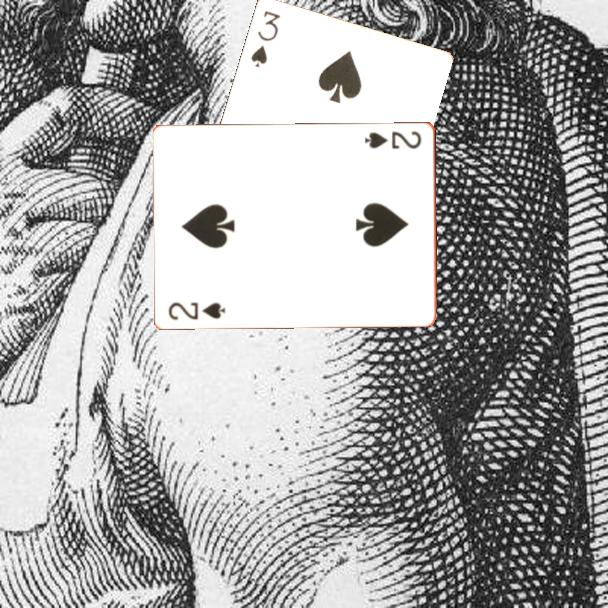s02: (361, 127, 425, 151), (165, 298, 228, 322)
s03: (247, 6, 283, 70)
